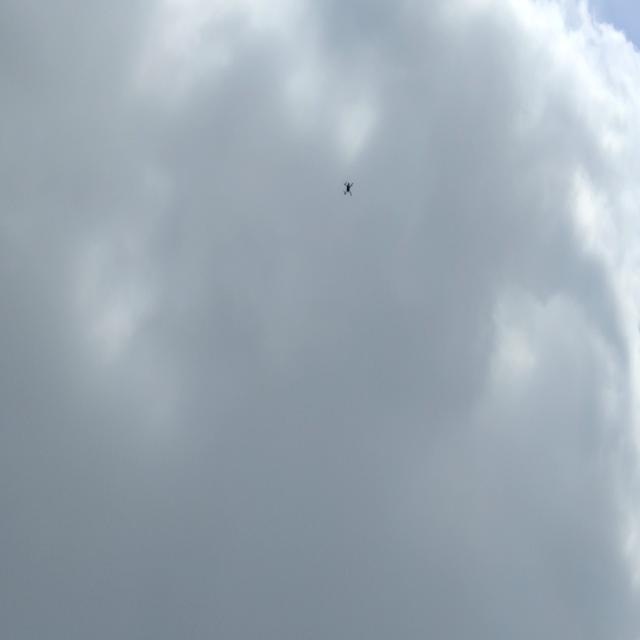drone: (339, 178, 358, 201)
